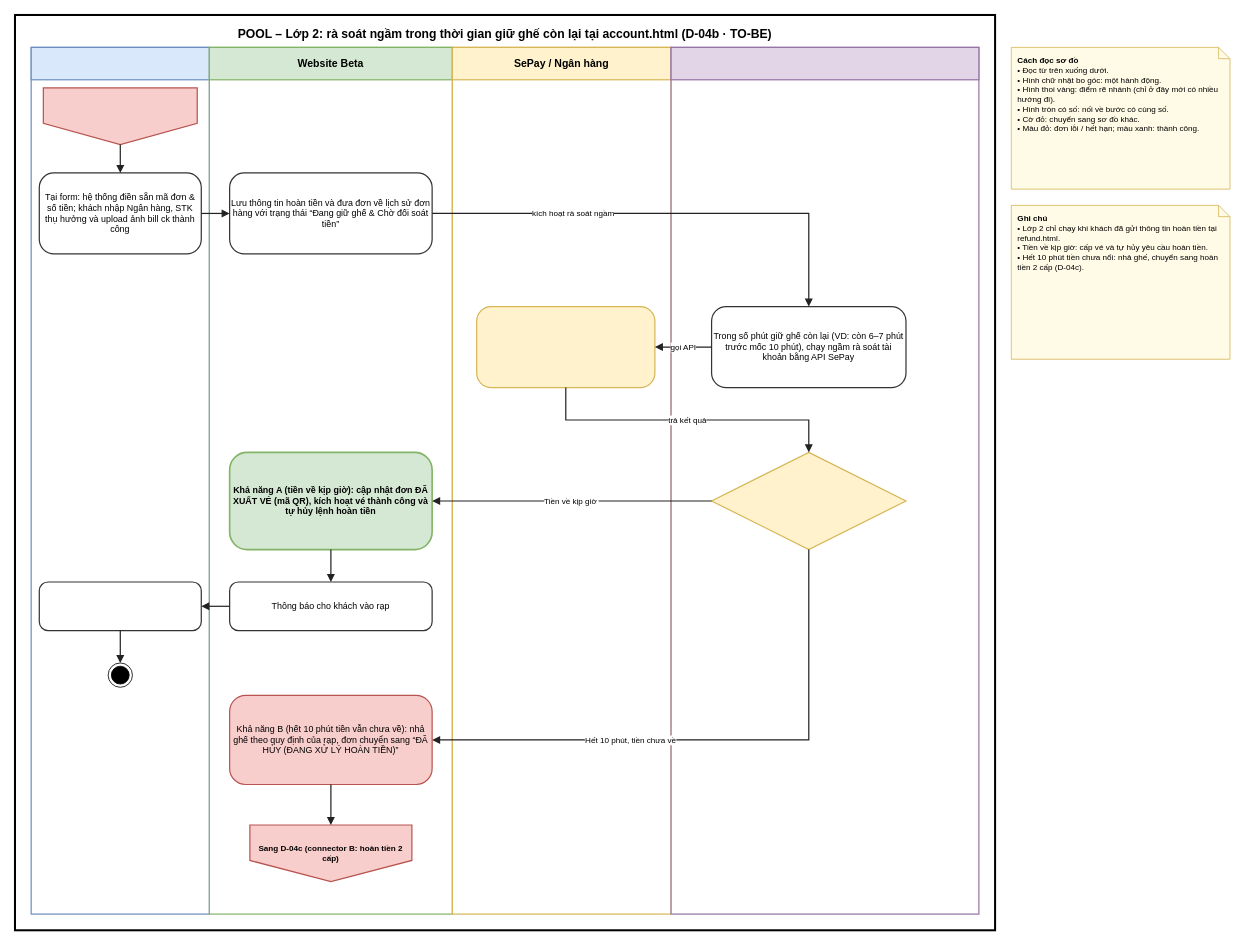
This 1244x945 diagram has some shape labels left out. The box of each missing label's shape, as (x1, y1, x2, y2) in pixels:
Khách hàng: (30, 46, 210, 80)
Nhận vé, vào rạp xem phim: (38, 581, 202, 631)
Reconciliation Job: (670, 46, 979, 80)
Tiền về hay hết 10 phút trước?: (711, 451, 906, 550)
Trả kết quả sao kê: có hoặc chưa có giao dịch khớp mã đơn BC... và số tiền: (476, 306, 655, 388)
Từ D-04a (connector A: chưa thấy tiền sau 1 phút): (42, 87, 197, 145)
